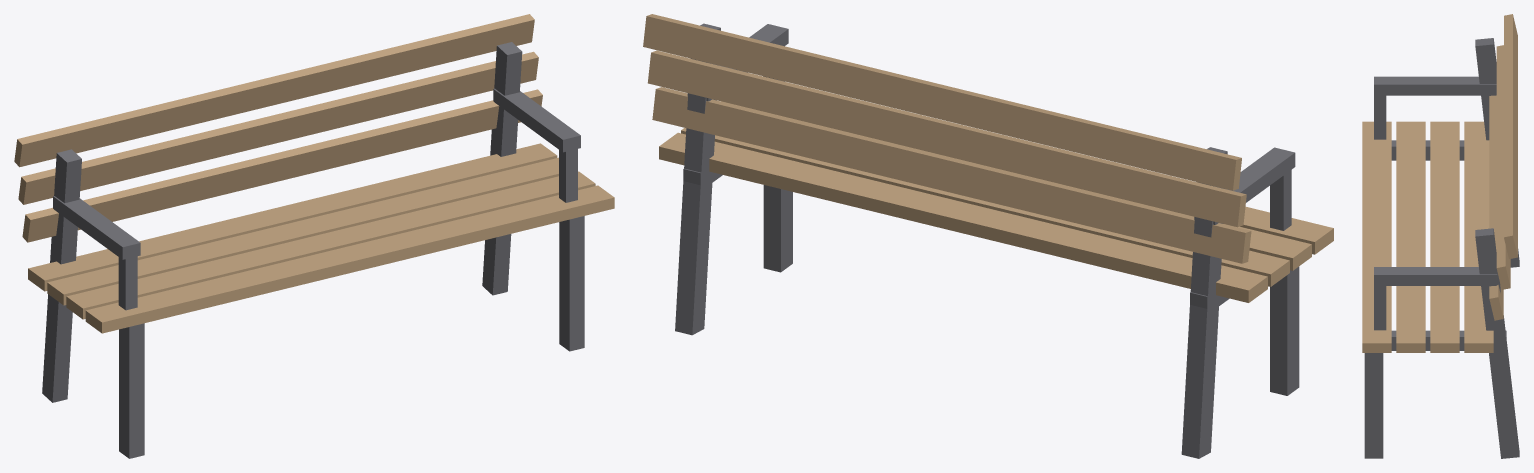
Rendered from bench.glb.
The picture shows the model from 3 angles, left to right: view 1: azimuth 30°, elevation 25°; view 2: azimuth 150°, elevation 25°; view 3: azimuth 270°, elevation 25°; orthographic projection. The views are drawn at different scales.
Visible parts, largest first — view 1: model; view 2: model; view 3: model.
Boxes of the visible parts, left/top/right/bottom form: model: left=14, top=14, right=614, bottom=458; model: left=643, top=14, right=1333, bottom=458; model: left=1362, top=14, right=1519, bottom=458.
Size of the model in its own units: 1.7 by 0.8432 by 0.5091.
